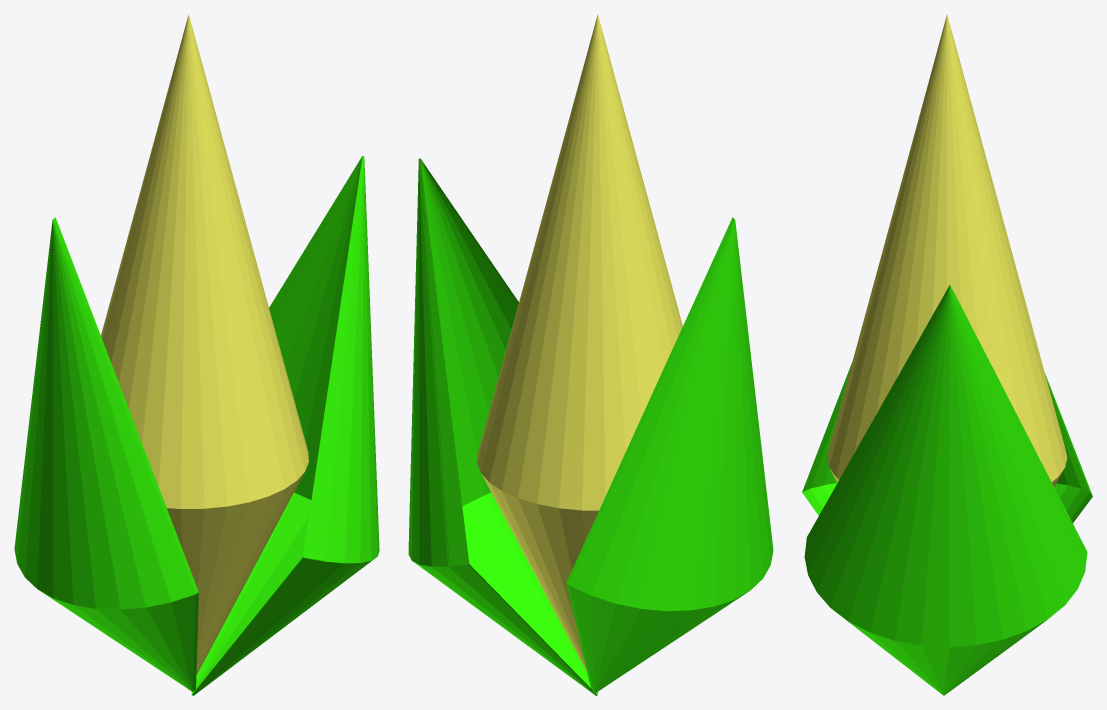
Rendered from Corn.fbx.
3 views of the same model, side by side, from view 1: azimuth 30°, elevation 25°; view 2: azimuth 150°, elevation 25°; view 3: azimuth 270°, elevation 25° (orthographic).
Visible parts, largest first — view 1: 円錐; view 2: 円錐; view 3: 円錐.
Part boxes in pixels (x1=…): 円錐: x1=14, y1=14, x2=379, y2=695; 円錐: x1=408, y1=14, x2=773, y2=695; 円錐: x1=802, y1=14, x2=1092, y2=695.
Size of the model in its own units: 228 by 451 by 175.
